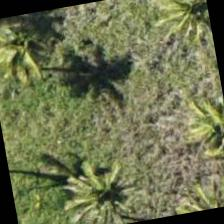Kelapa_Sawit: (56, 147, 158, 223), (0, 9, 68, 100), (166, 72, 223, 171), (155, 0, 215, 56)
